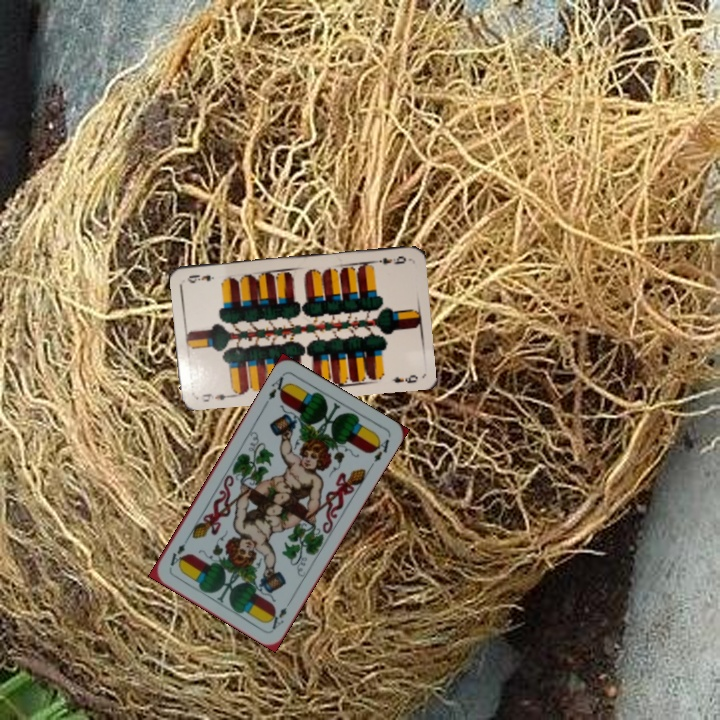E9: (370, 252, 408, 267), (198, 389, 234, 404)
EA: (264, 371, 290, 402), (266, 603, 290, 632)
